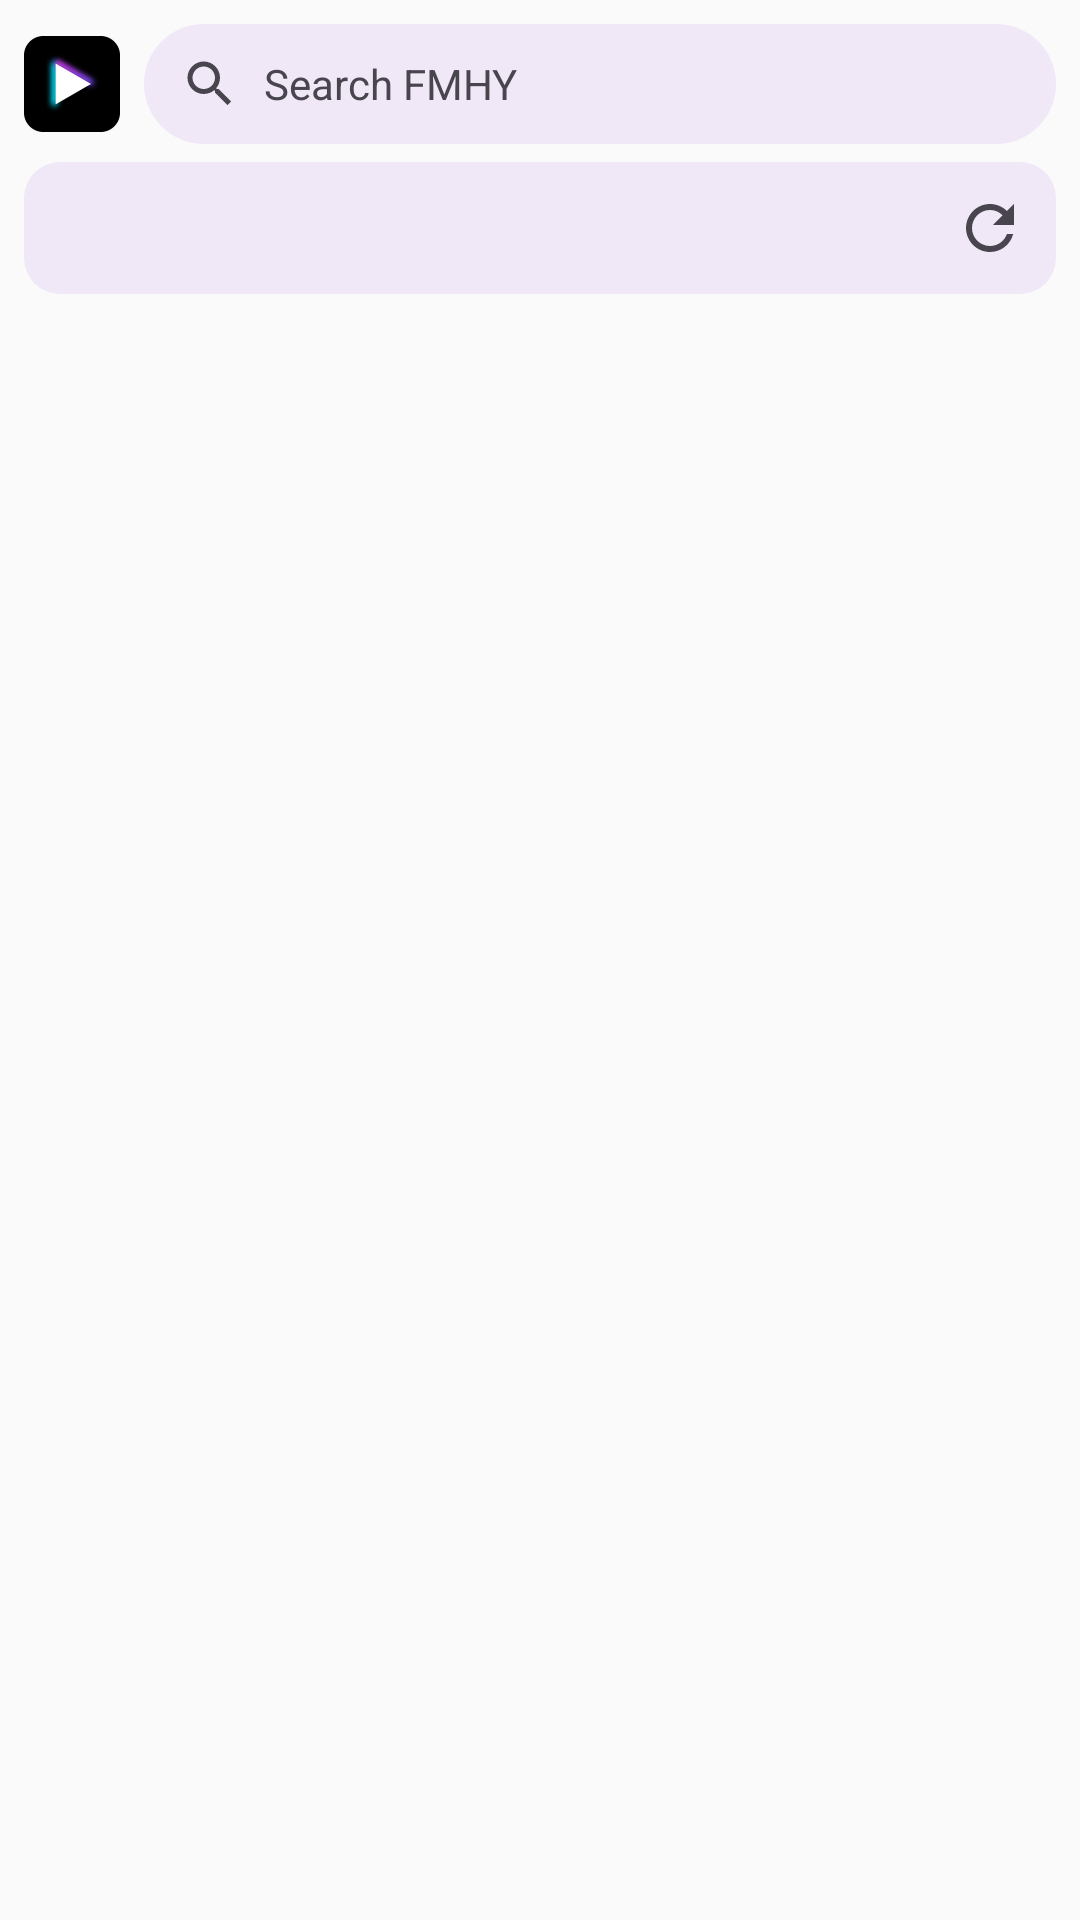

Icon bounding boxes for this 1080px x 1920px phone screenshot, format (x1, y1, x2, y2):
Refresh random pick: (924, 162, 1056, 294)
widget search: (187, 61, 231, 105)
